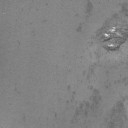iron sheet ash: (96, 24, 128, 51), (94, 90, 101, 104), (86, 0, 92, 14), (116, 102, 122, 108)
